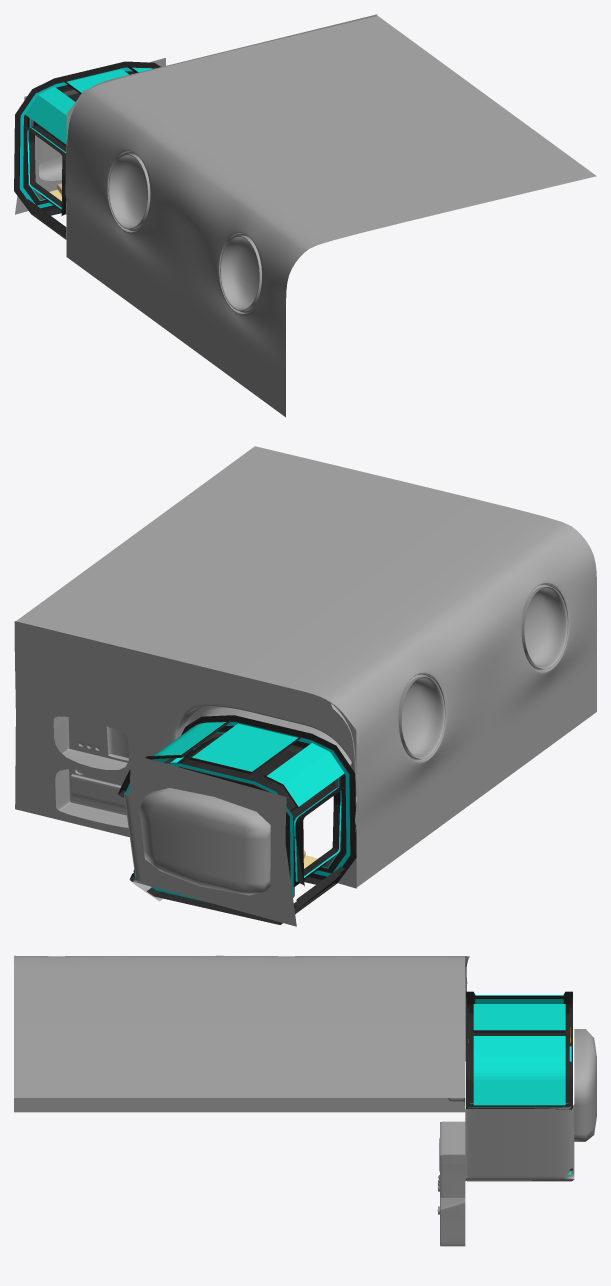
The model's file is brkRoom.fbx.
The picture shows the model from 3 angles, top to bottom: view 1: azimuth 30°, elevation 25°; view 2: azimuth 150°, elevation 25°; view 3: azimuth 270°, elevation 25°; orthographic projection. The views are drawn at different scales.
Parts seen in each view (by area): view 1: wall, windows, BedFrame, topPanel, bedWall, bedWindow, Framing; view 2: wall, bedWall, bedWindow, BedFrame, topPanel, computerPanel, windows, Framing; view 3: wall, topPanel, bedWall, computerPanel, BedFrame, bedWindow.
Part boxes in pixels (<box>): wall: <box>65,16,596,417</box>; windows: <box>108,154,259,310</box>; BedFrame: <box>14,61,160,239</box>; topPanel: <box>25,67,153,144</box>; bedWall: <box>15,14,377,257</box>; bedWindow: <box>38,138,62,180</box>; Framing: <box>19,67,151,208</box>; wall: <box>14,446,596,887</box>; bedWall: <box>14,621,356,926</box>; bedWindow: <box>139,788,270,895</box>; BedFrame: <box>118,715,356,924</box>; topPanel: <box>126,722,344,806</box>; computerPanel: <box>53,716,128,827</box>; windows: <box>401,586,567,758</box>; Framing: <box>124,722,350,902</box>; wall: <box>14,955,469,1112</box>; topPanel: <box>473,995,565,1105</box>; bedWall: <box>448,1098,574,1181</box>; computerPanel: <box>437,1121,465,1246</box>; BedFrame: <box>466,991,572,1181</box>; bedWindow: <box>574,1029,596,1141</box>.
Size of the model in its own units: 253 by 131 by 392.
